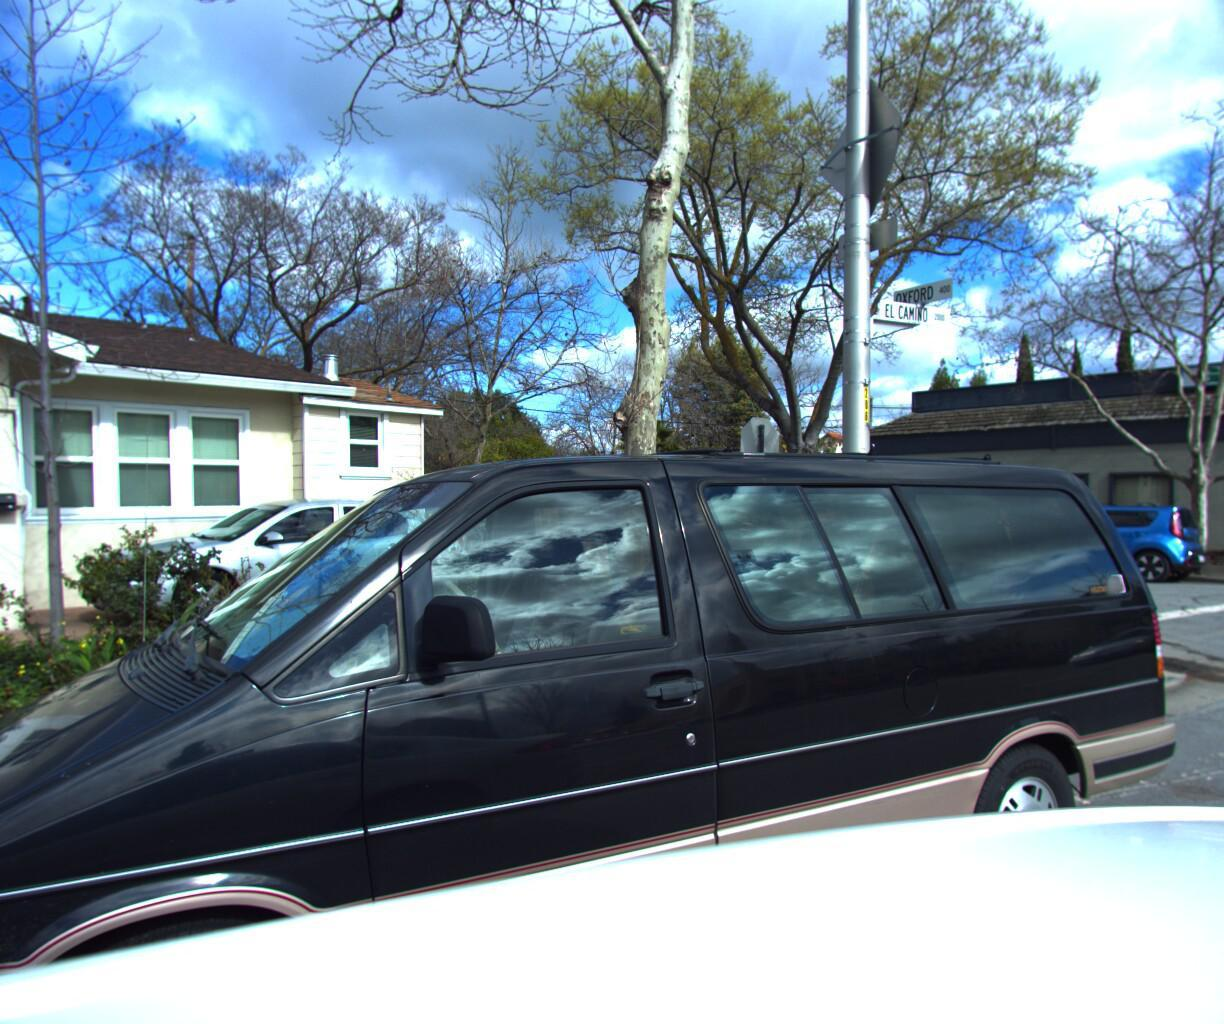car: (0, 367, 1224, 1024), (63, 498, 499, 652), (990, 505, 1224, 596)
